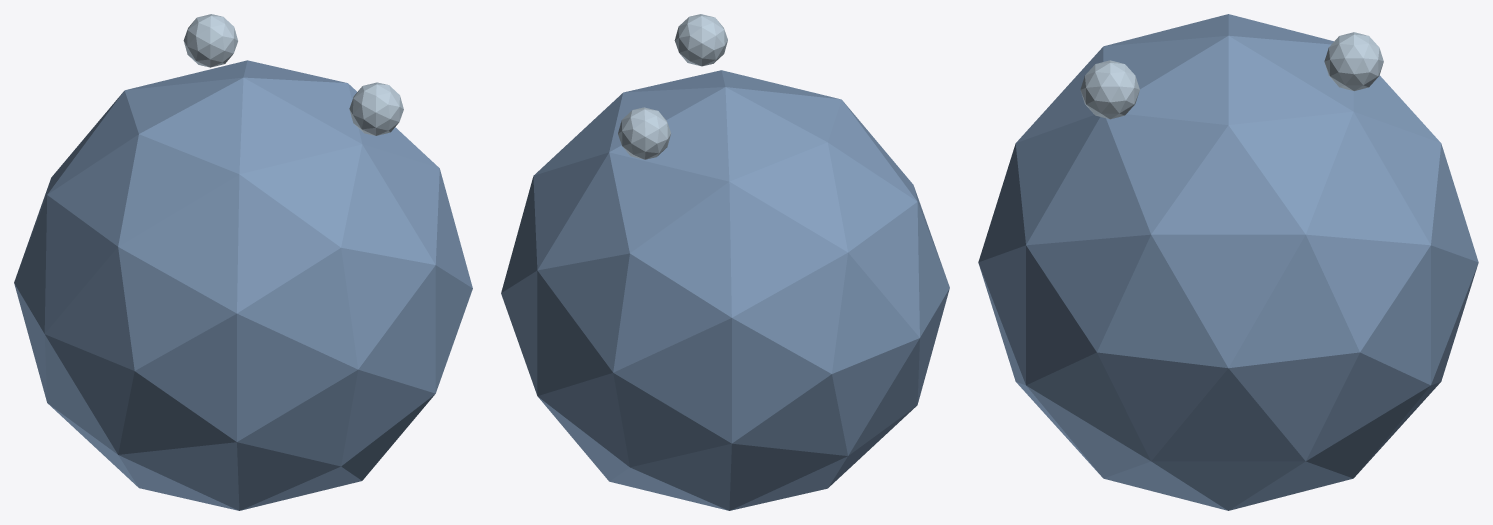
The model's file is time_horror.glb.
The picture shows the model from 3 angles, left to right: view 1: azimuth 30°, elevation 25°; view 2: azimuth 150°, elevation 25°; view 3: azimuth 270°, elevation 25°; orthographic projection. The views are drawn at different scales.
Parts seen in each view (by area): view 1: geometry_0; view 2: geometry_0; view 3: geometry_0.
Part boxes in pixels (box(x1,y1,x2,y2)): geometry_0: box(14, 14, 472, 510); geometry_0: box(501, 14, 949, 510); geometry_0: box(978, 14, 1478, 510).
Bounding box in the file's own units: 0.84 × 0.8675 × 0.84.
